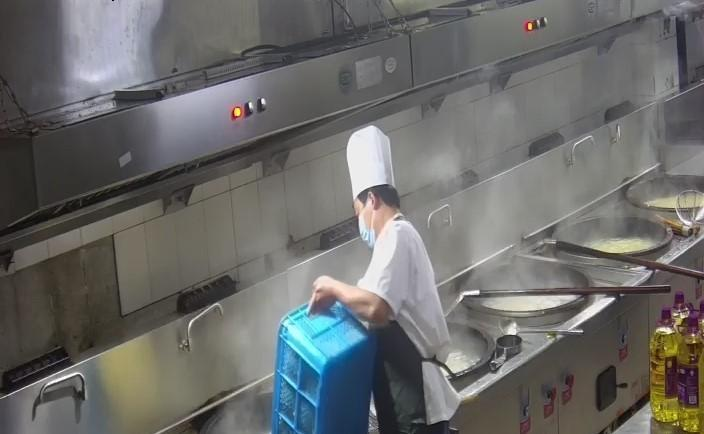mask: (353, 192, 388, 249)
no_apron: (307, 274, 339, 318)
